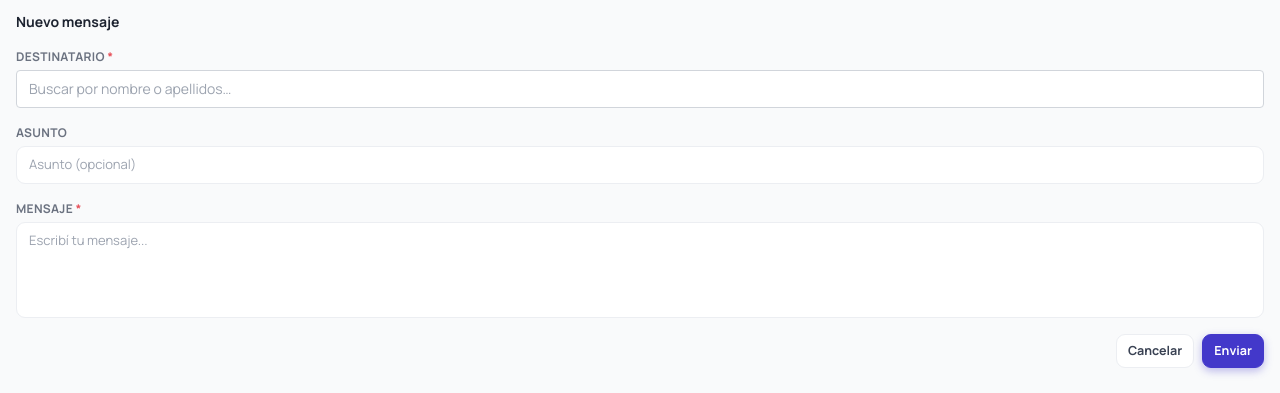
Test: NuevoHiloForm — selecting a user › selecting a user from the combobox dropdown sets destinatario
Type "Ana" into the field with test id "usuario-combobox-input".
click(640, 89); type("Ana")  # box [16,70,1264,108]
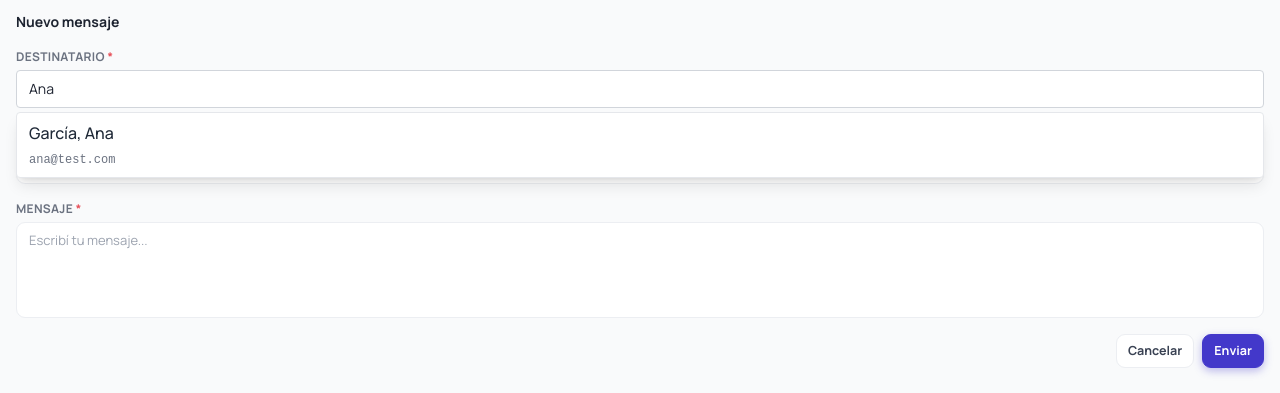
Press the mouse on the option at (72, 144), box [29,122,115,167]
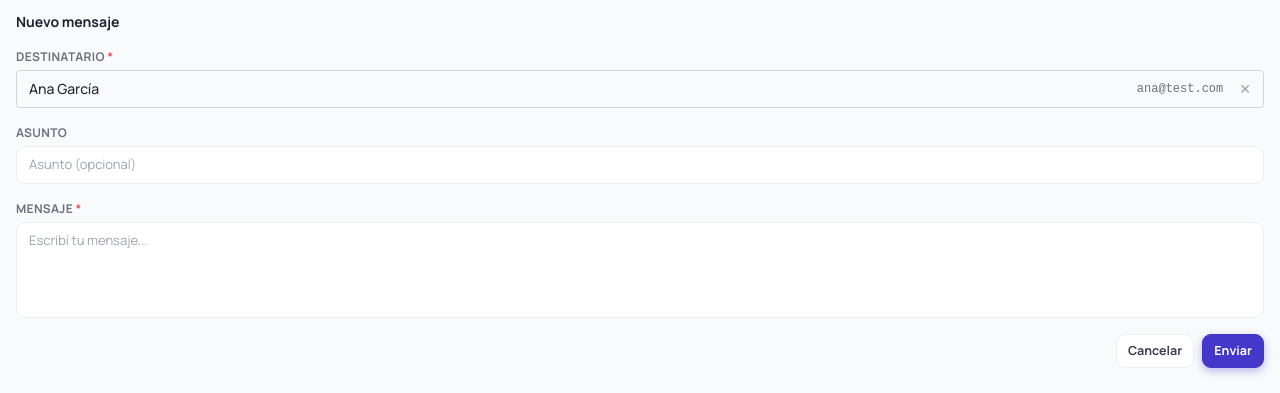
Result: the text with test id "usuario-combobox-selected" shows "Ana" at [29,79,54,98]
